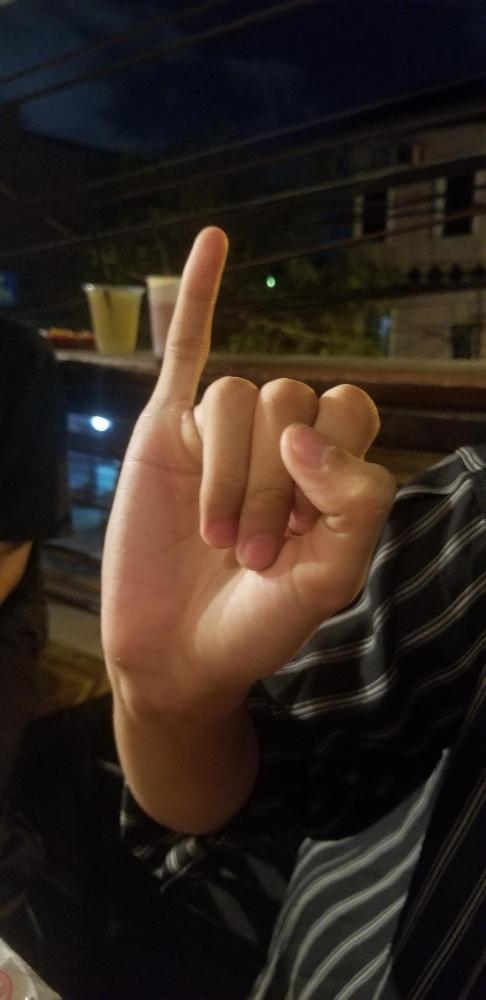i: (98, 220, 401, 700)
